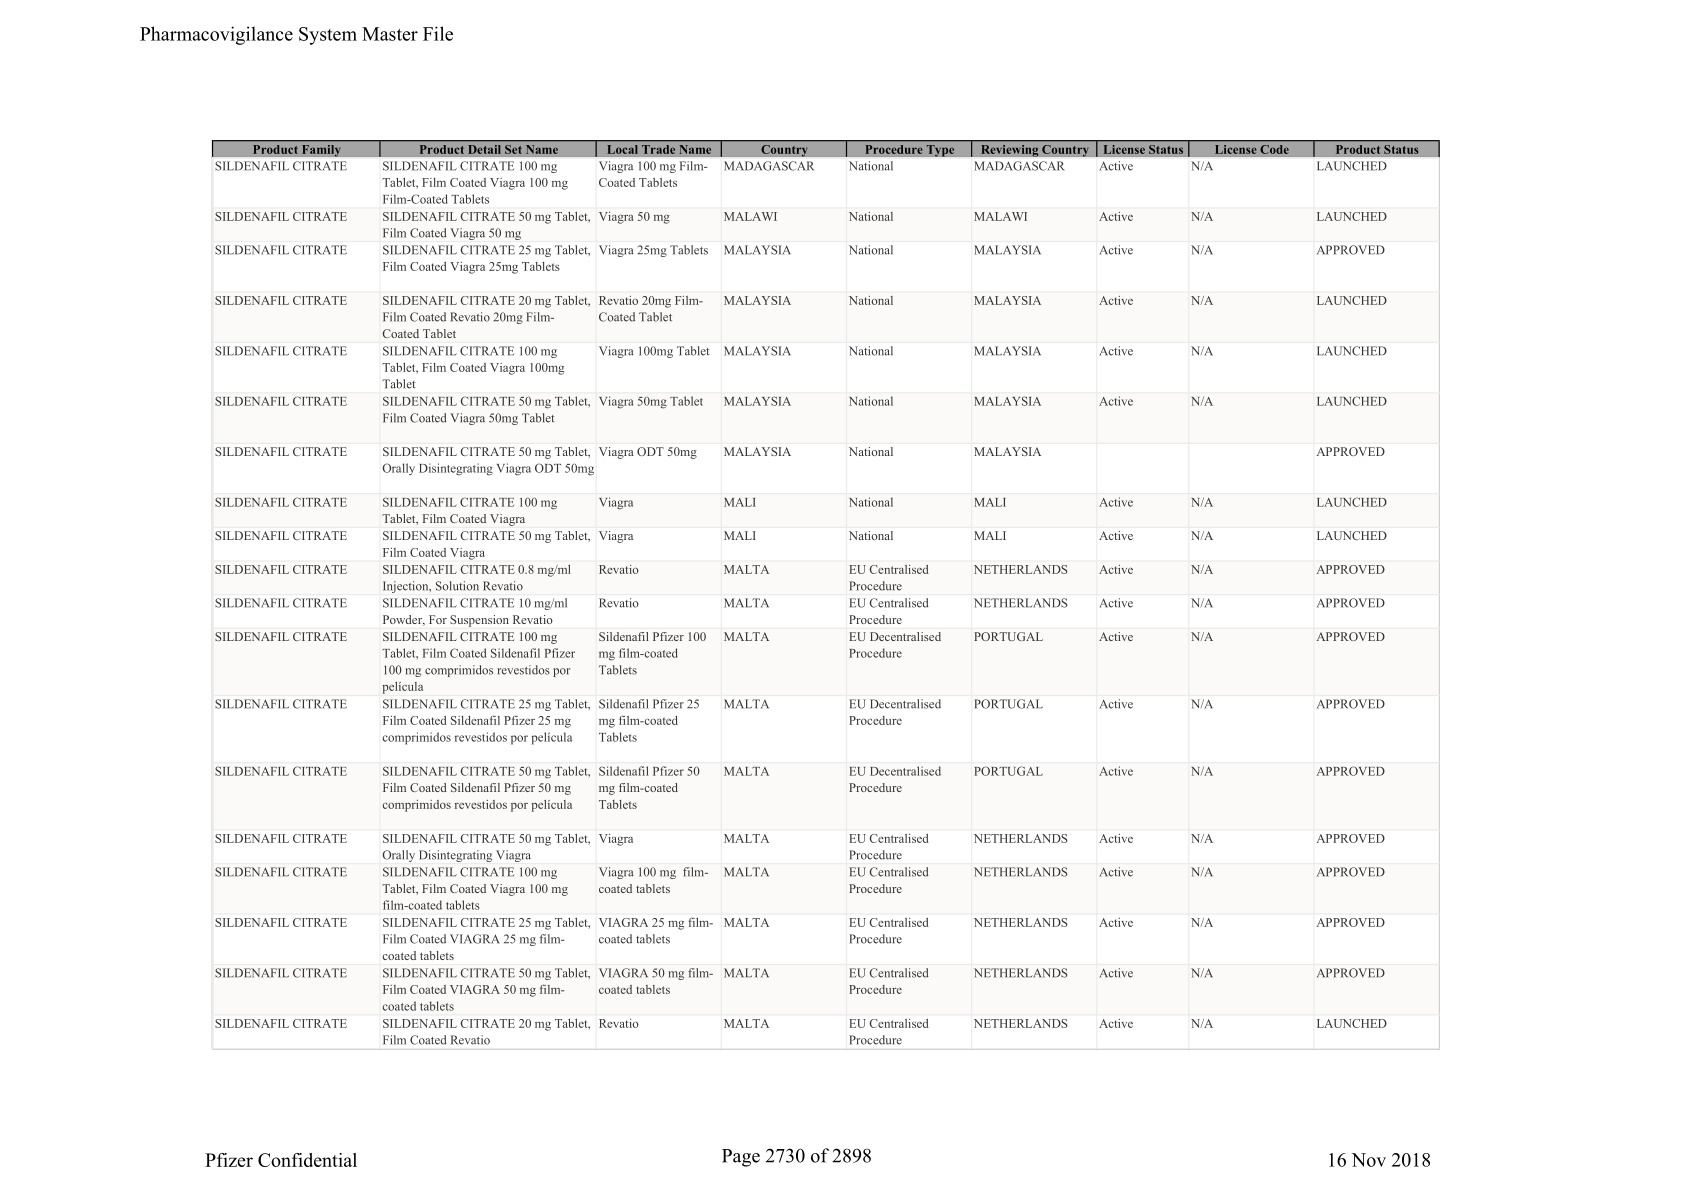full_lined: (210, 139, 1440, 1051)
